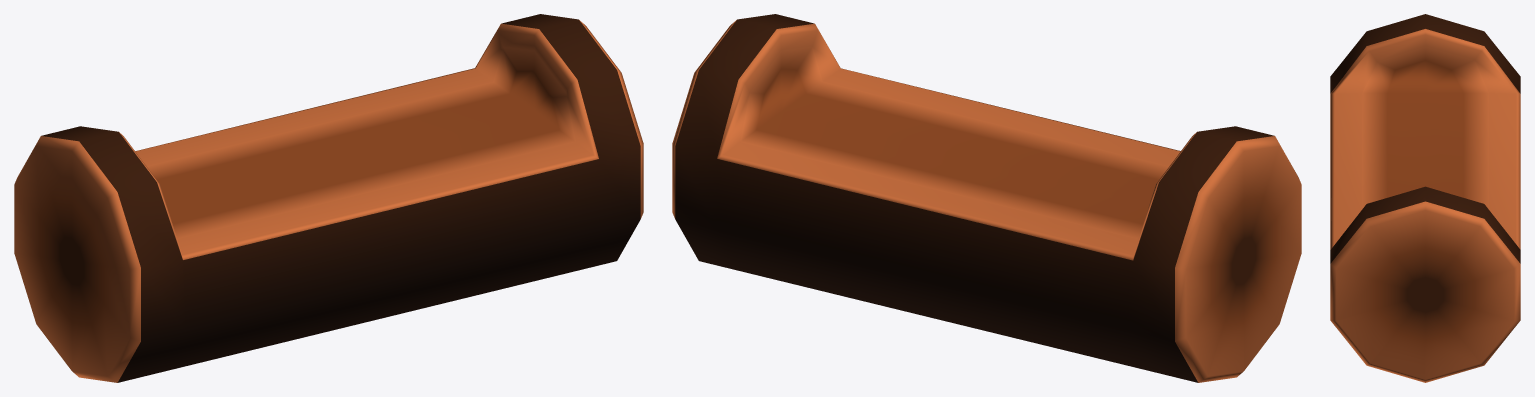
The model's file is Chair_Log.fbx.
3 renders of one model, left to right at view 1: azimuth 30°, elevation 25°; view 2: azimuth 150°, elevation 25°; view 3: azimuth 270°, elevation 25°, orthographic. The views are drawn at different scales.
Parts seen in each view (by area): view 1: Chair_Log; view 2: Chair_Log; view 3: Chair_Log.
Boxes of the visible parts, x1,y1,x2,y2 form: Chair_Log: [14, 14, 643, 382]; Chair_Log: [672, 14, 1301, 382]; Chair_Log: [1330, 14, 1520, 382].
Size of the model in its own units: 117 by 51.52 by 49.
